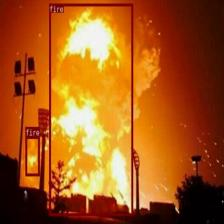fire: (49, 3, 133, 215), (25, 136, 39, 175)
